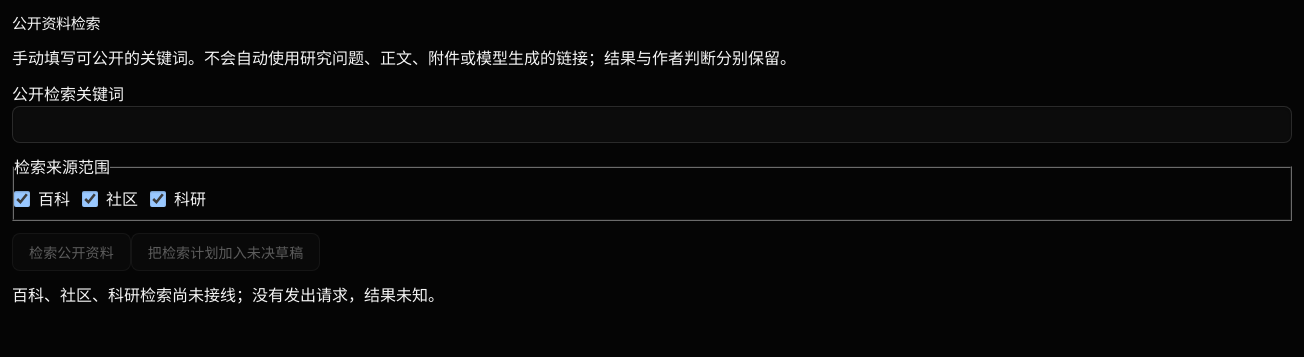
never sends a query from an unavailable production panel and keeps only an explicit authored plan
Expected: the button "检索公开资料" is disabled, [12,232,131,270]
Type "公开关键词" into the field labelled "公开检索关键词" at point(652, 124), box [12,106,1292,142]
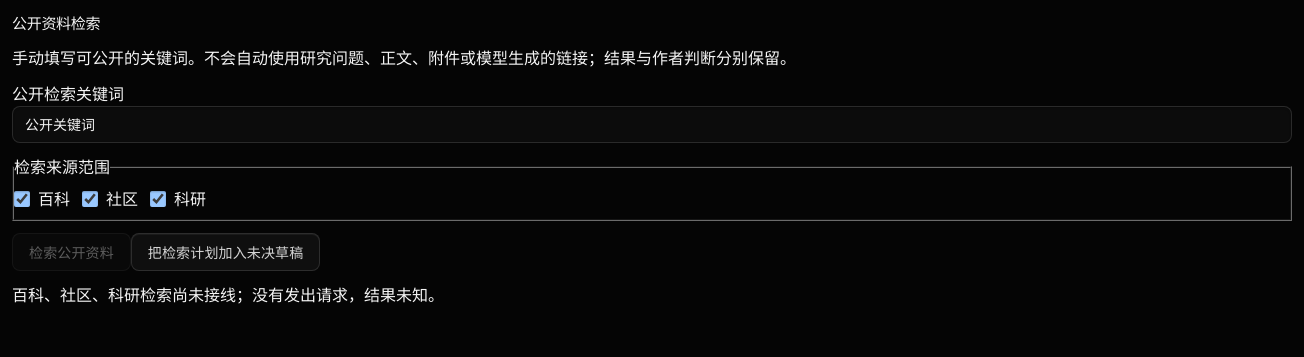
Click the button "把检索计划加入未决草稿" at point(226, 252), box [131,232,320,270]
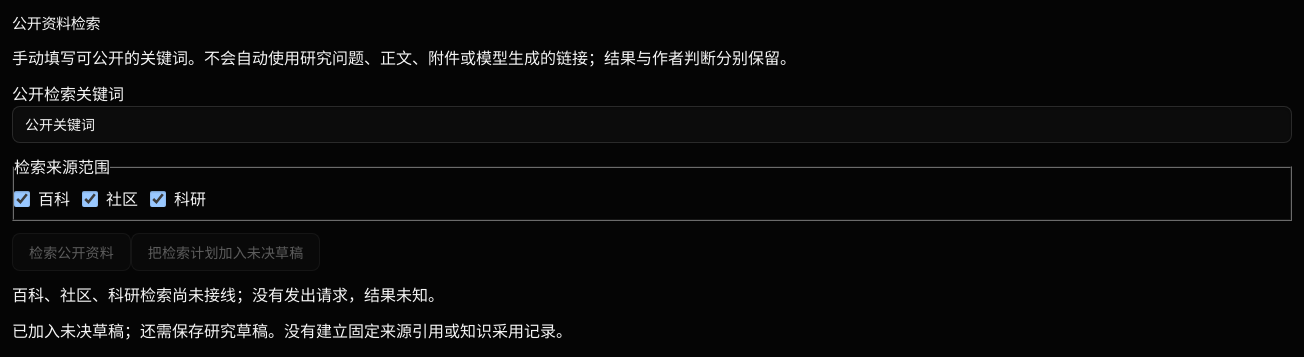
Now the button "把检索计划加入未决草稿" is disabled, box [131,232,320,270]
